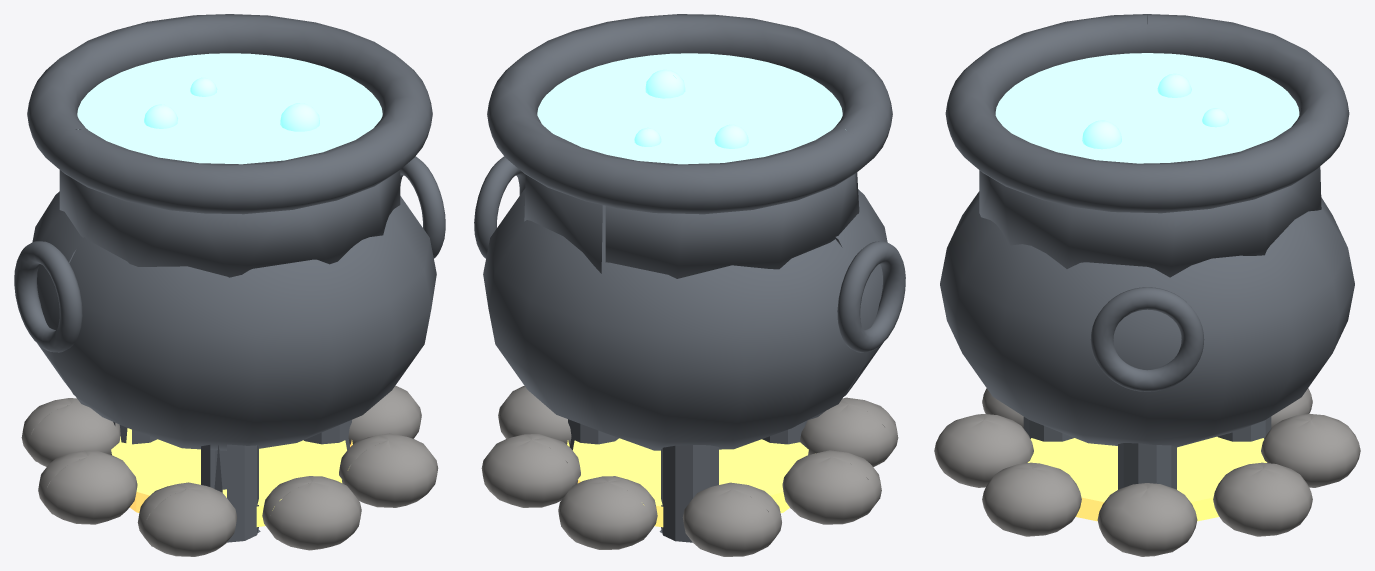
File: cauldron.glb
The picture shows the model from 3 angles, left to right: view 1: azimuth 30°, elevation 25°; view 2: azimuth 150°, elevation 25°; view 3: azimuth 270°, elevation 25°; orthographic projection.
Parts seen in each view (by area): view 1: CauldronBelly, CauldronRim, BrewSurface, CauldronNeck, EmberBed, HearthStone_4, HearthStone_5, HearthStone_6, HearthStone_7, Handle_-1, HearthStone_3, Foot_2 (+5 smaller); view 2: CauldronBelly, CauldronRim, BrewSurface, CauldronNeck, EmberBed, HearthStone_4, HearthStone_2, HearthStone_3, HearthStone_1, Handle_-1, HearthStone_5, Foot_1 (+5 smaller); view 3: CauldronBelly, CauldronRim, BrewSurface, CauldronNeck, EmberBed, Handle_1, HearthStone_1, HearthStone_0, HearthStone_7, HearthStone_2, HearthStone_6, Foot_0 (+6 smaller).
Boxes of the visible parts, <box> form: CauldronBelly: <box>32,191,436,450</box>; CauldronRim: <box>27,14,432,214</box>; BrewSurface: <box>77,53,382,164</box>; CauldronNeck: <box>59,170,400,277</box>; EmberBed: <box>111,428,352,526</box>; HearthStone_4: <box>38,450,137,524</box>; HearthStone_5: <box>137,482,237,556</box>; HearthStone_6: <box>262,476,361,550</box>; HearthStone_7: <box>339,433,438,507</box>; Handle_-1: <box>14,241,82,352</box>; HearthStone_3: <box>21,398,120,466</box>; Foot_2: <box>201,444,260,542</box>; CauldronBelly: <box>483,188,887,450</box>; CauldronRim: <box>487,14,892,214</box>; BrewSurface: <box>537,53,845,164</box>; CauldronNeck: <box>524,131,859,278</box>; EmberBed: <box>567,438,808,527</box>; HearthStone_4: <box>782,450,881,524</box>; HearthStone_2: <box>558,476,657,549</box>; HearthStone_3: <box>682,482,781,556</box>; HearthStone_1: <box>481,434,580,507</box>; Handle_-1: <box>837,241,905,352</box>; HearthStone_5: <box>800,397,898,466</box>; Foot_1: <box>659,445,718,542</box>; CauldronBelly: <box>940,191,1354,447</box>; CauldronRim: <box>945,14,1349,213</box>; BrewSurface: <box>995,53,1299,163</box>; CauldronNeck: <box>979,166,1321,277</box>; EmberBed: <box>1027,436,1267,521</box>; Handle_1: <box>1090,287,1204,391</box>; HearthStone_1: <box>1213,462,1312,536</box>; HearthStone_0: <box>1097,483,1197,556</box>; HearthStone_7: <box>982,462,1081,536</box>; HearthStone_2: <box>1261,414,1360,487</box>; HearthStone_6: <box>934,414,1033,487</box>; Foot_0: <box>1118,443,1176,489</box>.
Size of the model in its own units: 0.97 by 0.95 by 0.94.
